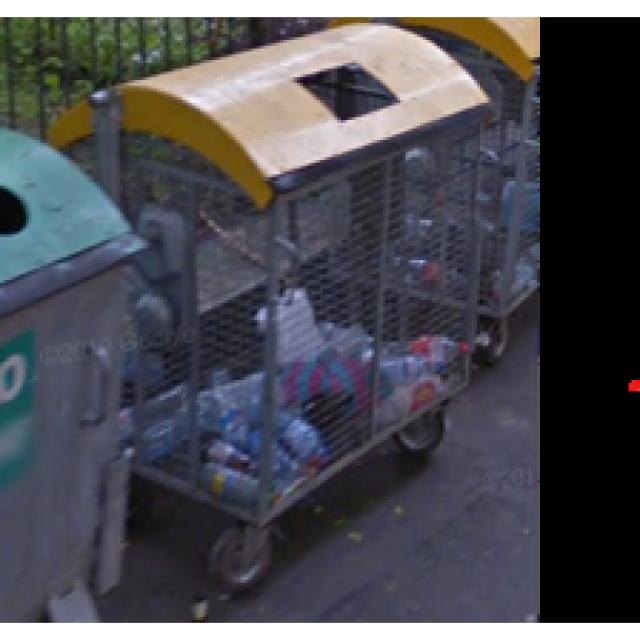plastic trash bin: (136, 26, 483, 596)
